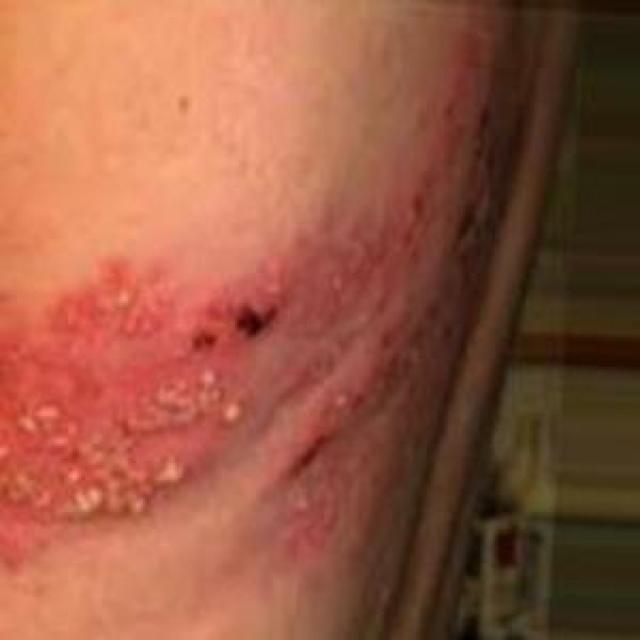Shingles: (0, 265, 290, 518)
